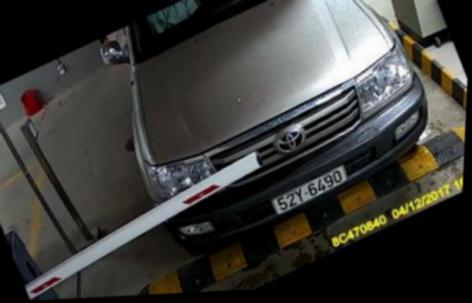License_Plate: (270, 164, 350, 222)
